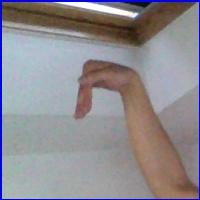del: (67, 53, 147, 124)
